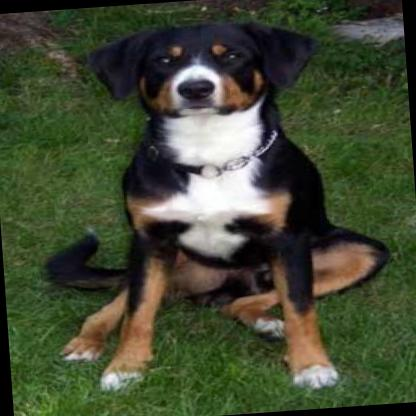EntleBucher: (24, 7, 399, 406)
